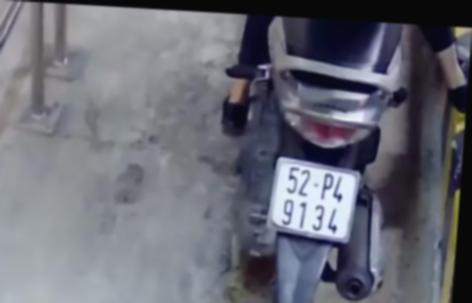License_Plate: (260, 152, 368, 246)
